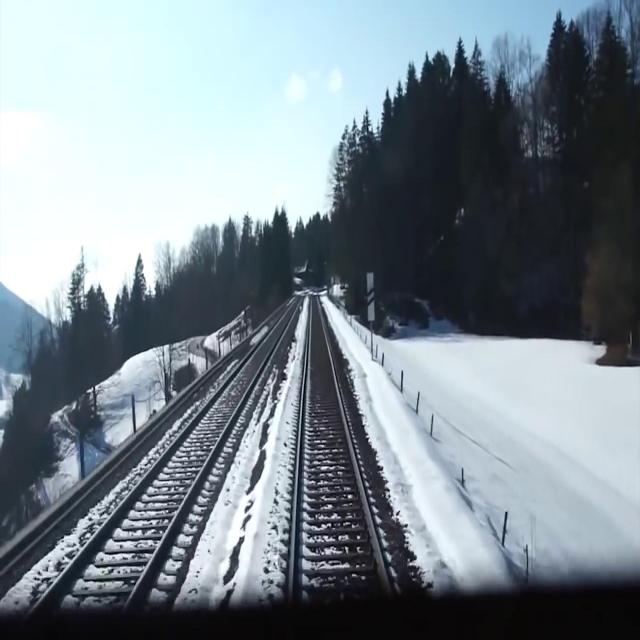rail-track: (11, 295, 300, 639), (292, 293, 402, 639)
